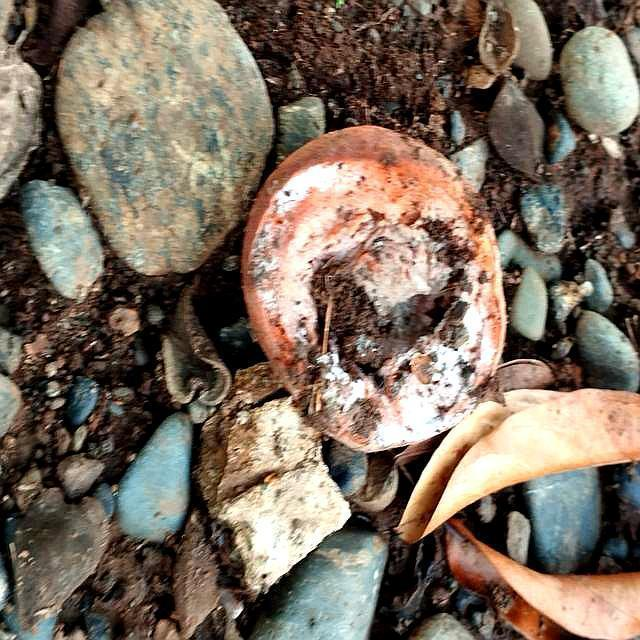Biodegradable: (241, 128, 511, 452)
